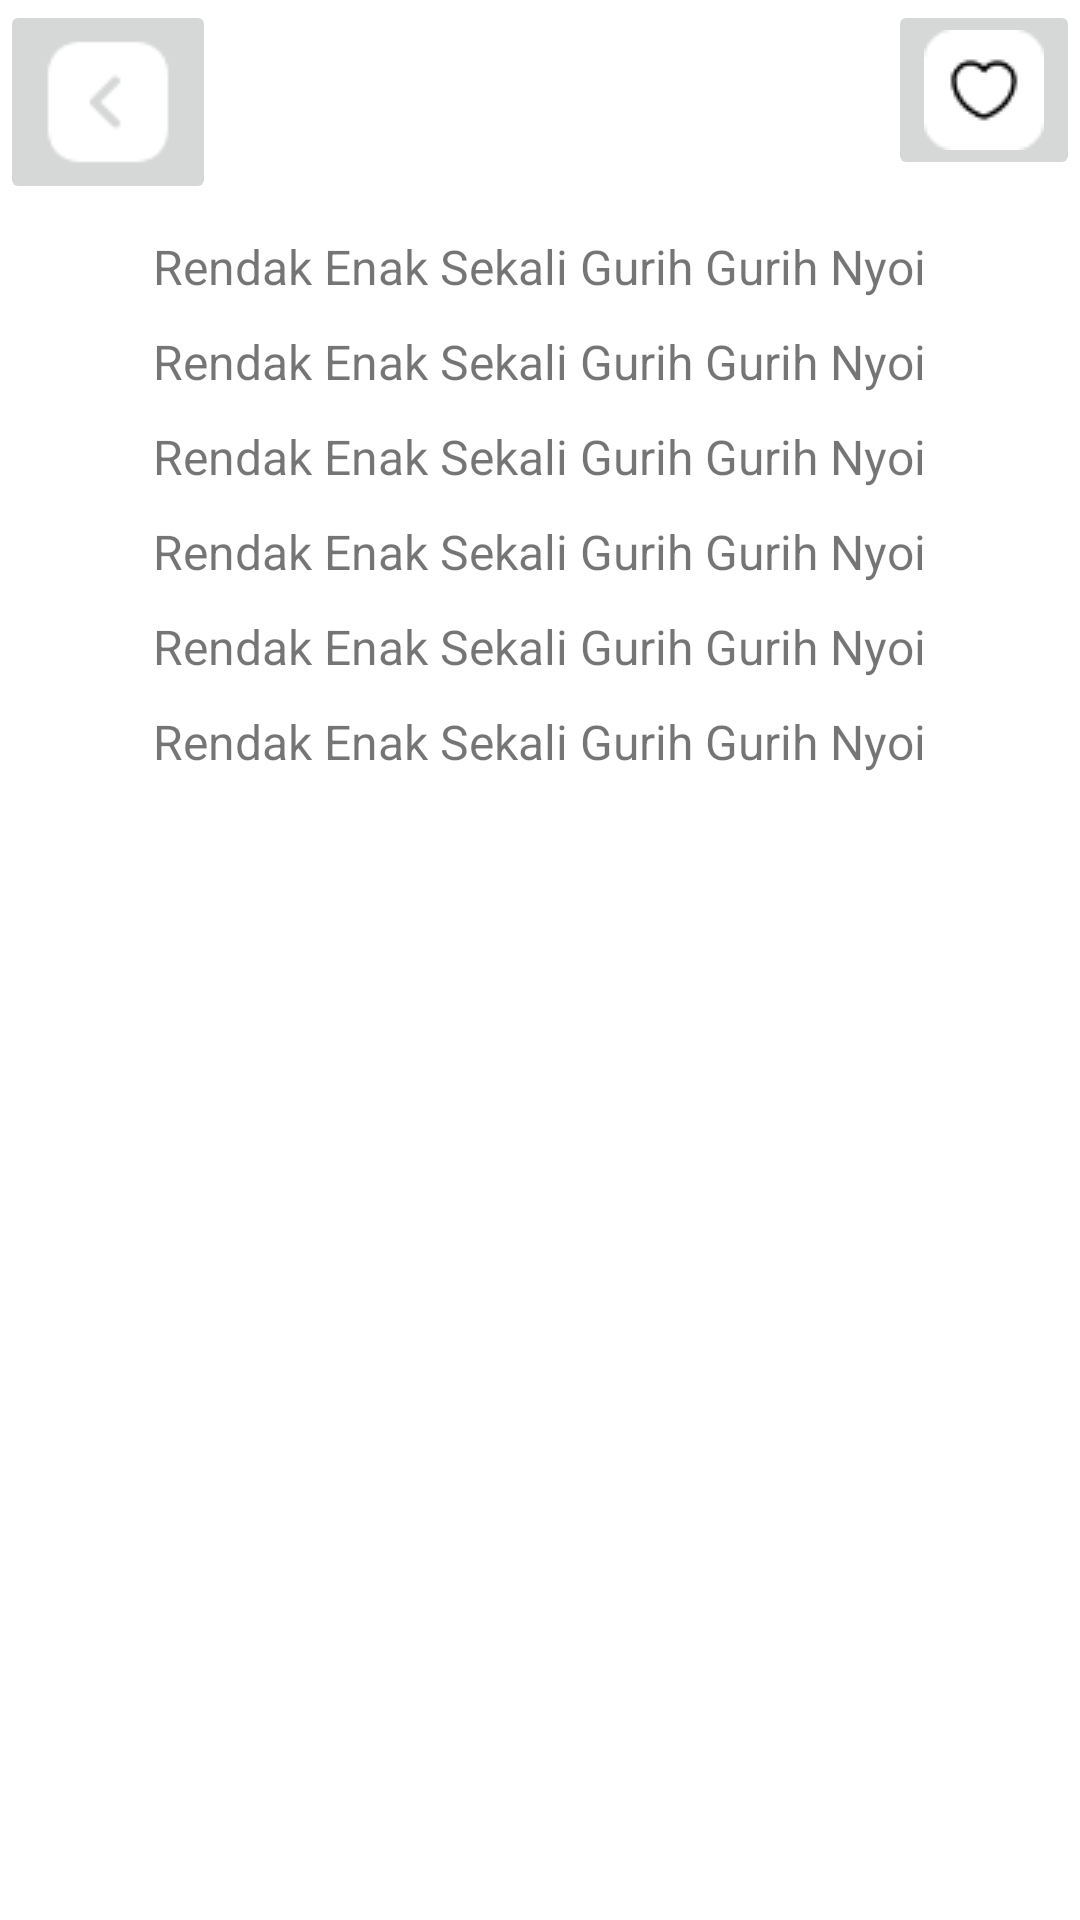

Point at icon controls on the screen. Image size 1080 × 1920, points as [x,y].
arrowsquareleft: [108,102]
squarelove: [984,90]
